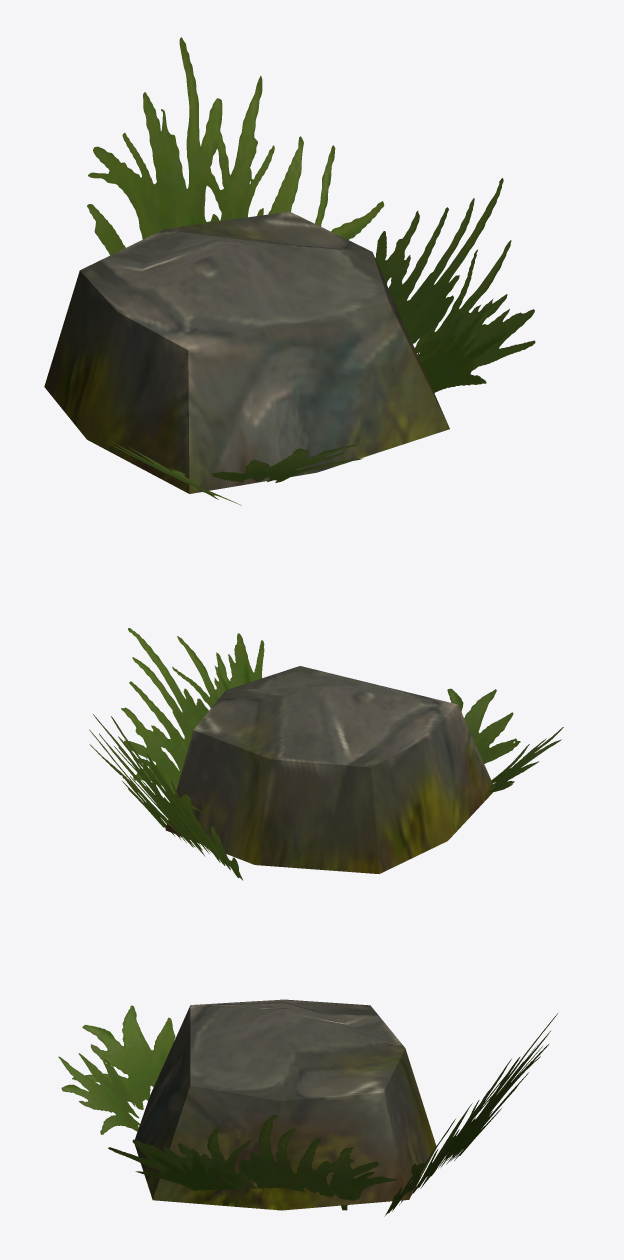
File: common_yewai_shitou01.FBX
3 views of the same model, one above another, from view 1: azimuth 30°, elevation 25°; view 2: azimuth 150°, elevation 25°; view 3: azimuth 270°, elevation 25° (orthographic). The views are drawn at different scales.
Parts seen in each view (by area): view 1: common_yewai_shitou01; view 2: common_yewai_shitou01; view 3: common_yewai_shitou01.
Boxes of the visible parts, left/top/right/bottom form: common_yewai_shitou01: left=44, top=37, right=535, bottom=505; common_yewai_shitou01: left=89, top=628, right=563, bottom=880; common_yewai_shitou01: left=58, top=999, right=557, bottom=1216.
Bounding box in the file's own units: 2.4 × 2.68 × 1.06.
